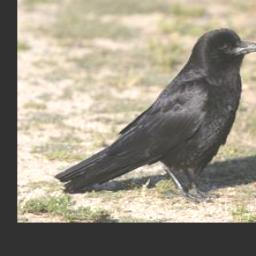Crow: (53, 26, 256, 203)
